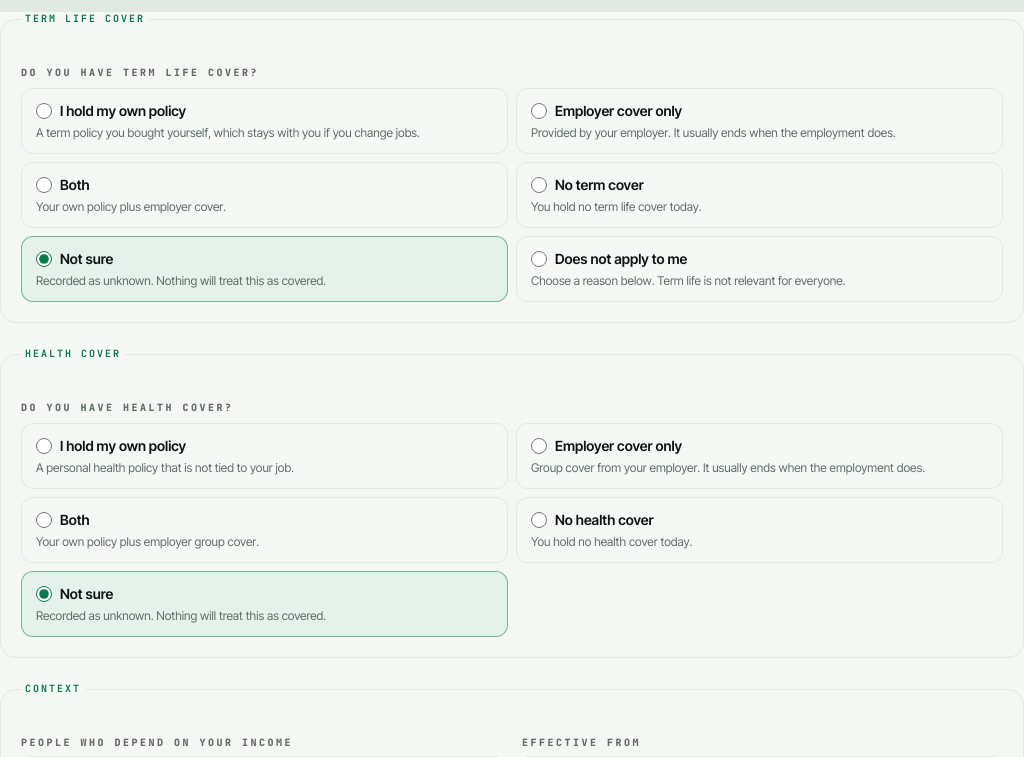
Test case: ProtectionProfileForm conditional fields › reveals only the employer term field for employer-only cover
The width and height of the screenshot is (1024, 757).
Click the radio button labelled "Employer cover only" at (539, 111), box [531,103,547,119]
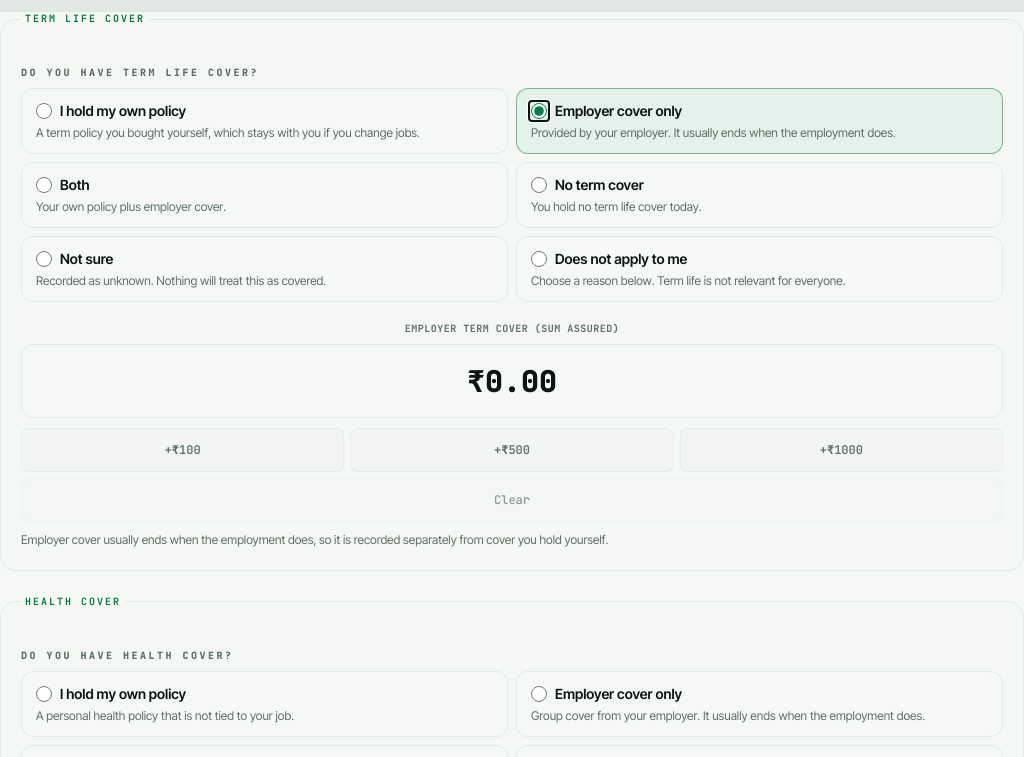
Expected: the field labelled "Employer term cover (sum assured)" is shown, [21,344,1003,418]
Expected: the text "Employer cover usually ends when the employment does" is shown, [21,532,608,547]
